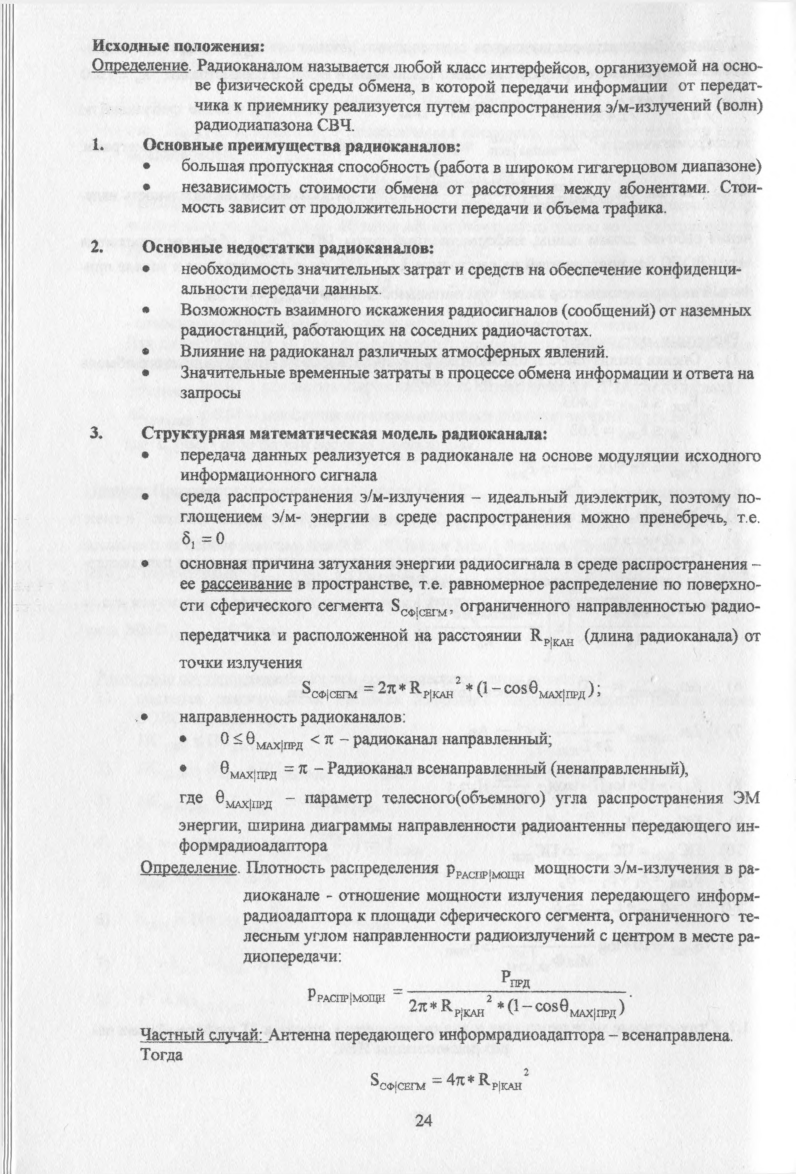P.прд: (502, 965, 529, 987)
P.распр.мощн: (304, 984, 391, 1007)
R.р.кан: (476, 1067, 521, 1095), (408, 674, 452, 702), (441, 998, 487, 1021)
S.сф.сегм: (302, 675, 359, 705), (367, 1070, 426, 1095)
group: (299, 963, 638, 1026), (297, 671, 607, 710), (361, 1059, 534, 1101)
θ.max.прд: (526, 675, 587, 705), (557, 999, 615, 1020)
